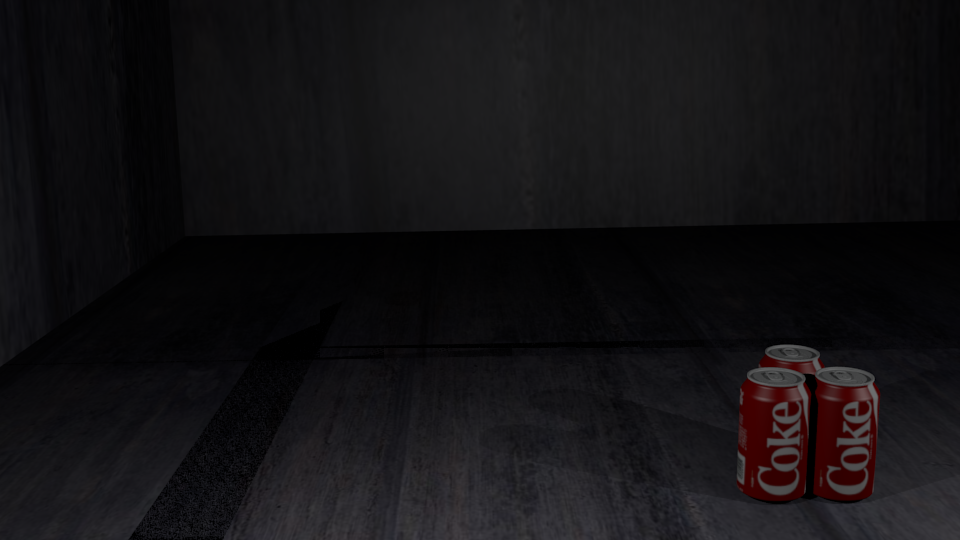cola_can: (807, 367, 879, 496), (739, 368, 810, 497), (760, 345, 824, 467)
